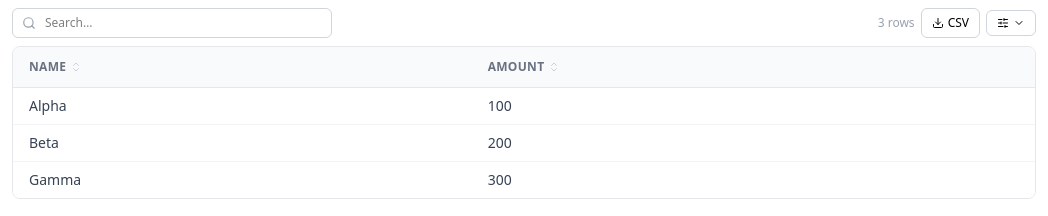
Test: Tier1: AccountingDataGrid › filters rows by search
Type "Alpha" into the field with test id "grid-search" at [172, 23], box [12, 8, 332, 38]
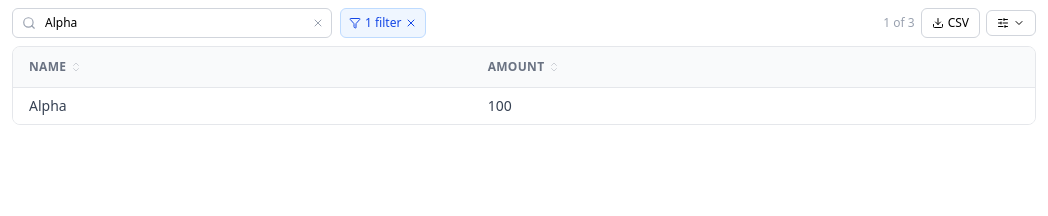
Expected: the text "Alpha" is shown, [29, 96, 67, 115]
Result: the text "Beta" is gone
